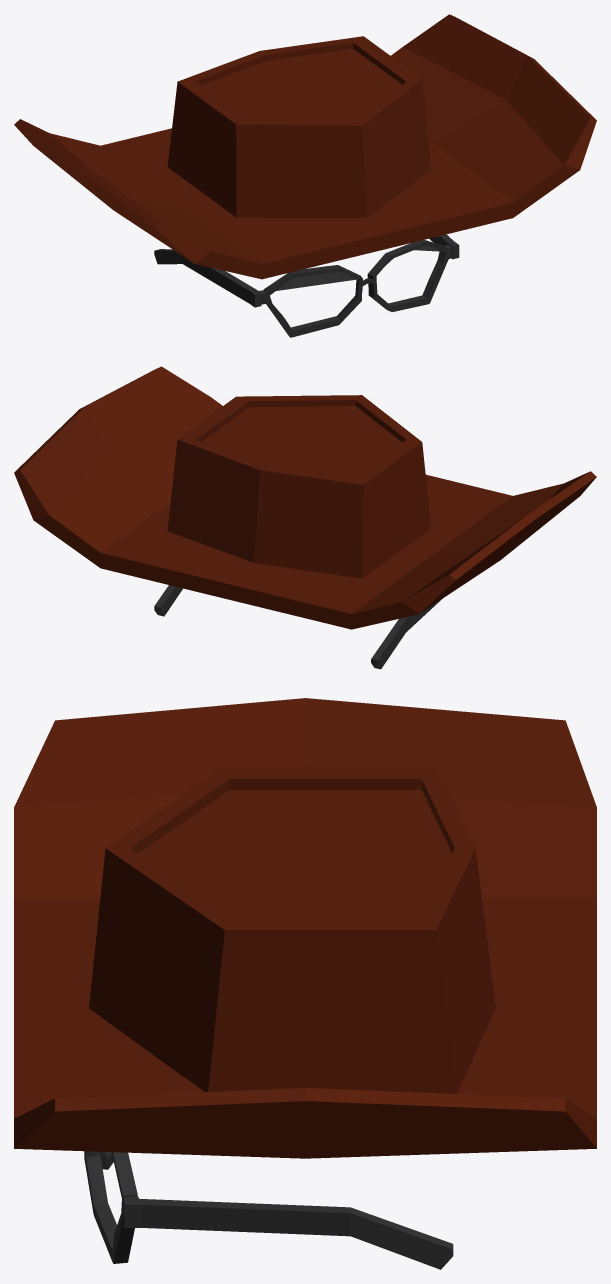
The model's file is Spieler 13.fbx.
3 renders of one model, top to bottom at view 1: azimuth 30°, elevation 25°; view 2: azimuth 150°, elevation 25°; view 3: azimuth 270°, elevation 25°, orthographic. The views are drawn at different scales.
Parts seen in each view (by area): view 1: Cube.002; view 2: Cube.002; view 3: Cube.002.
Boxes of the visible parts, x1,y1,x2,y2 form: Cube.002: (14, 14, 596, 337); Cube.002: (14, 366, 596, 669); Cube.002: (14, 698, 596, 1269).
Size of the model in its own units: 182 by 75.22 by 112.
